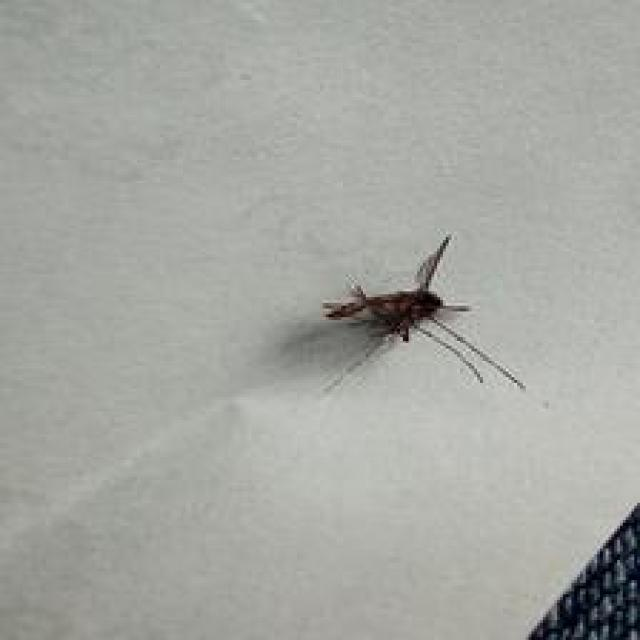Aedes albopictus: (319, 233, 527, 396)
